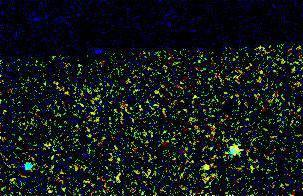star: (191, 150, 221, 180)
